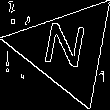N_S: (41, 21, 92, 78)
